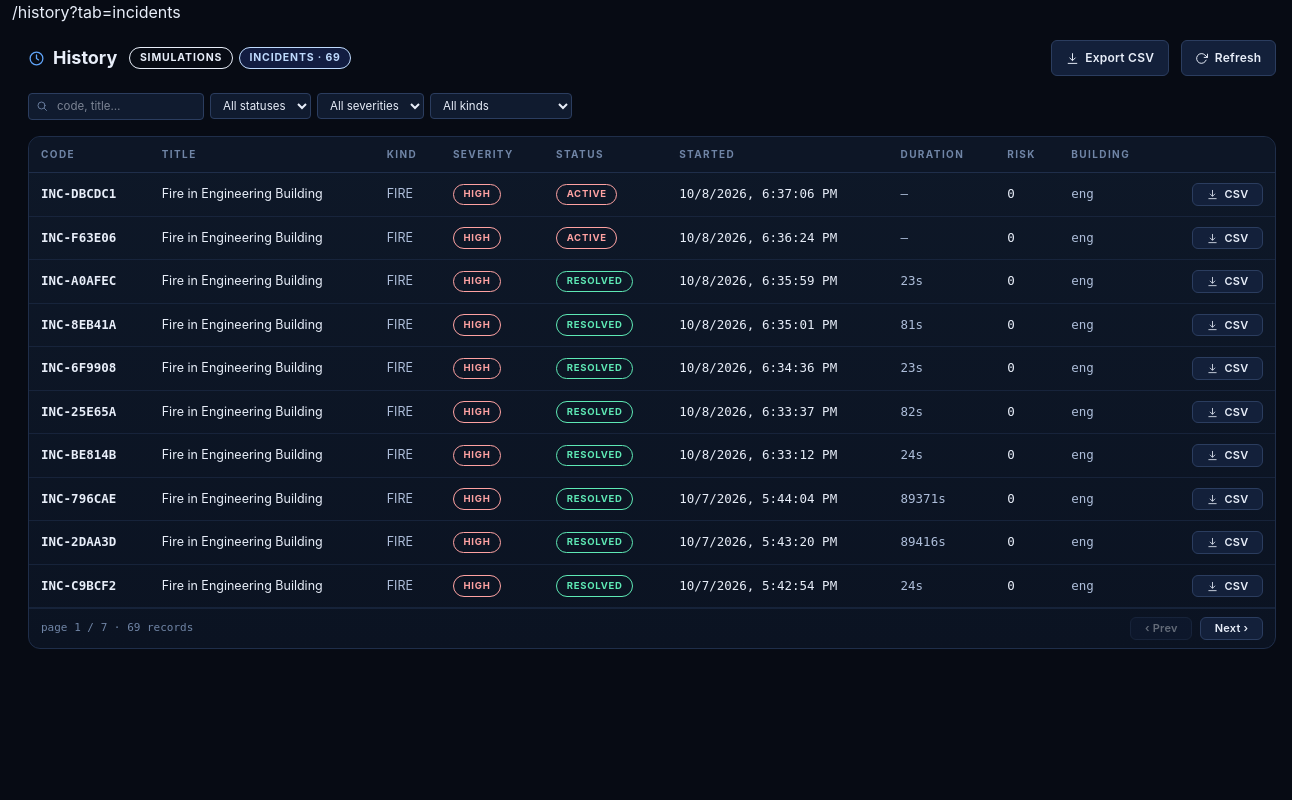
History §62 — incidents tab › opens the incident drawer and generates the report
The image size is (1292, 800).
Click the row that starts with "INC-DBCDC1".
click(652, 195)  # box [29, 173, 1275, 216]
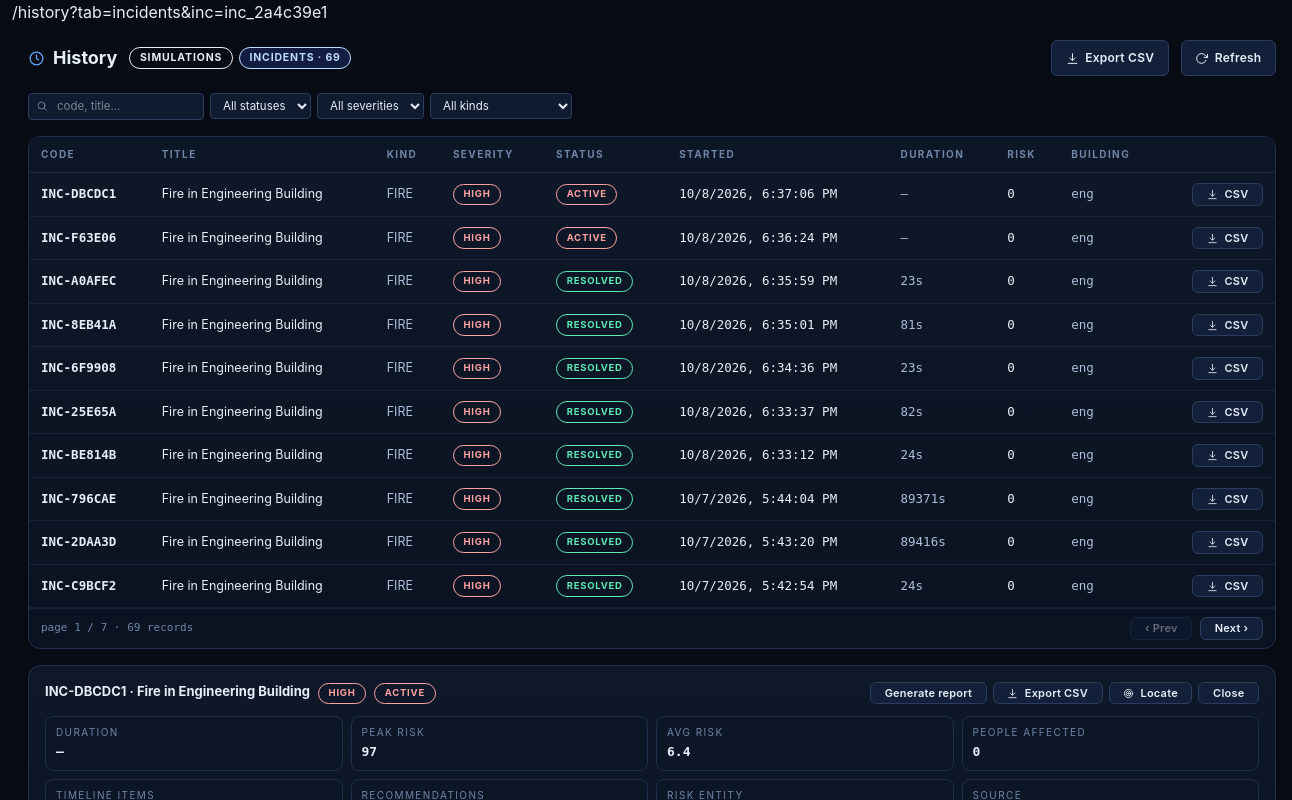
Result: the heading "INC-DBCDC1 · Fire in Engineering Building" is shown at [45, 682, 310, 702]
Click the button with test id "report-toggle".
click(928, 693)  # box [870, 682, 987, 704]
(page scrolled)
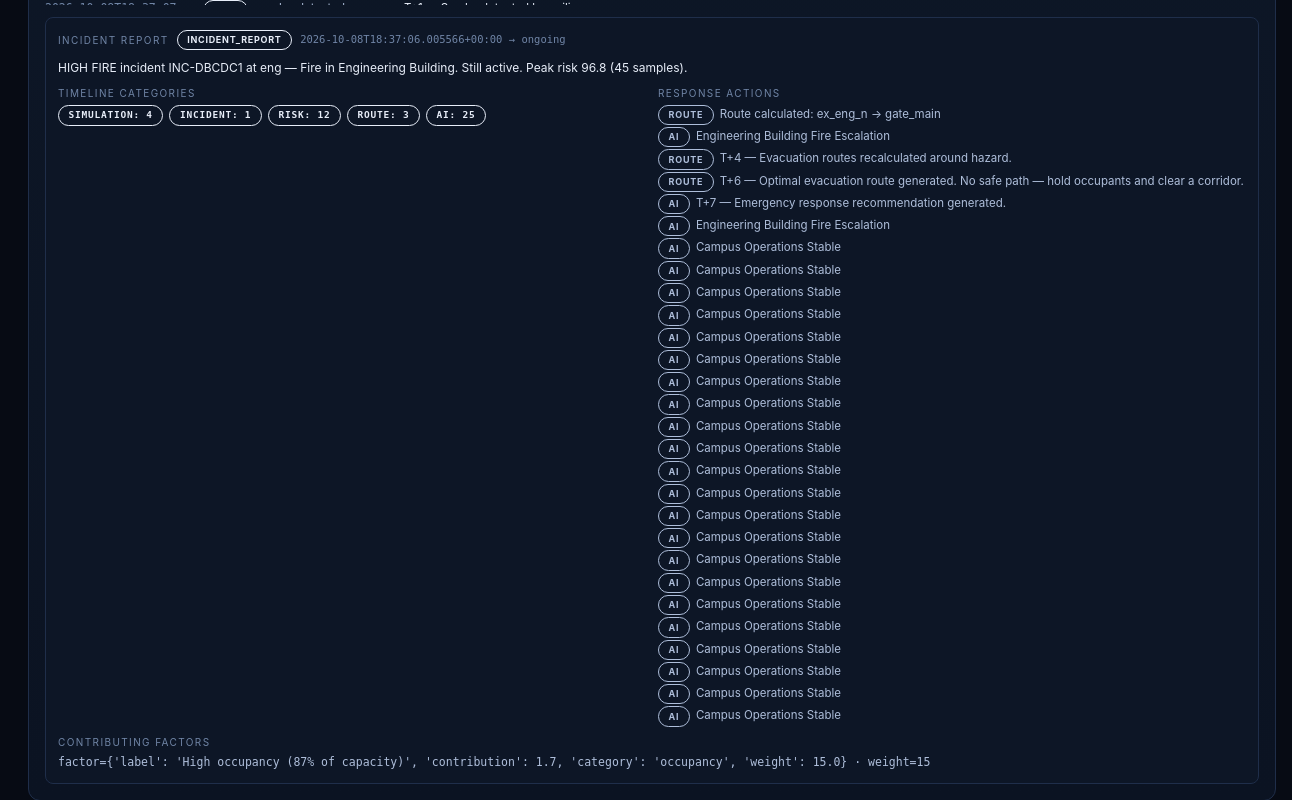
Result: the element with test id "report-block" shows "INCIDENT_REPORT" at [187, 34, 282, 45]
Result: the element with test id "report-block" shows "HIGH FIRE incident INC-DBCDC1 at eng — Fire in Engineering B" at [58, 60, 687, 75]
Result: the element with test id "report-block" shows "Timeline categories" at [58, 87, 196, 99]
